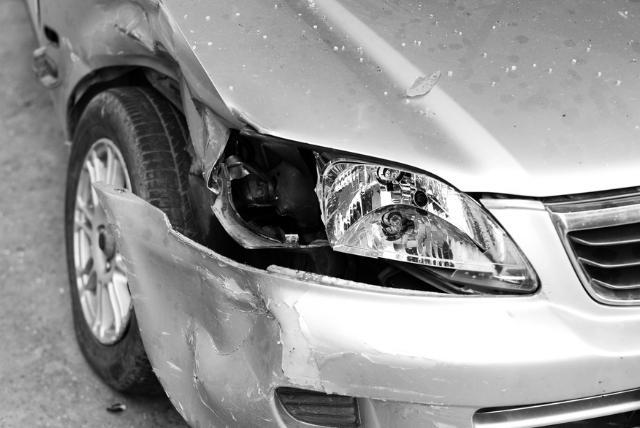Bumper: (98, 189, 558, 428)
Light: (216, 132, 537, 287)
